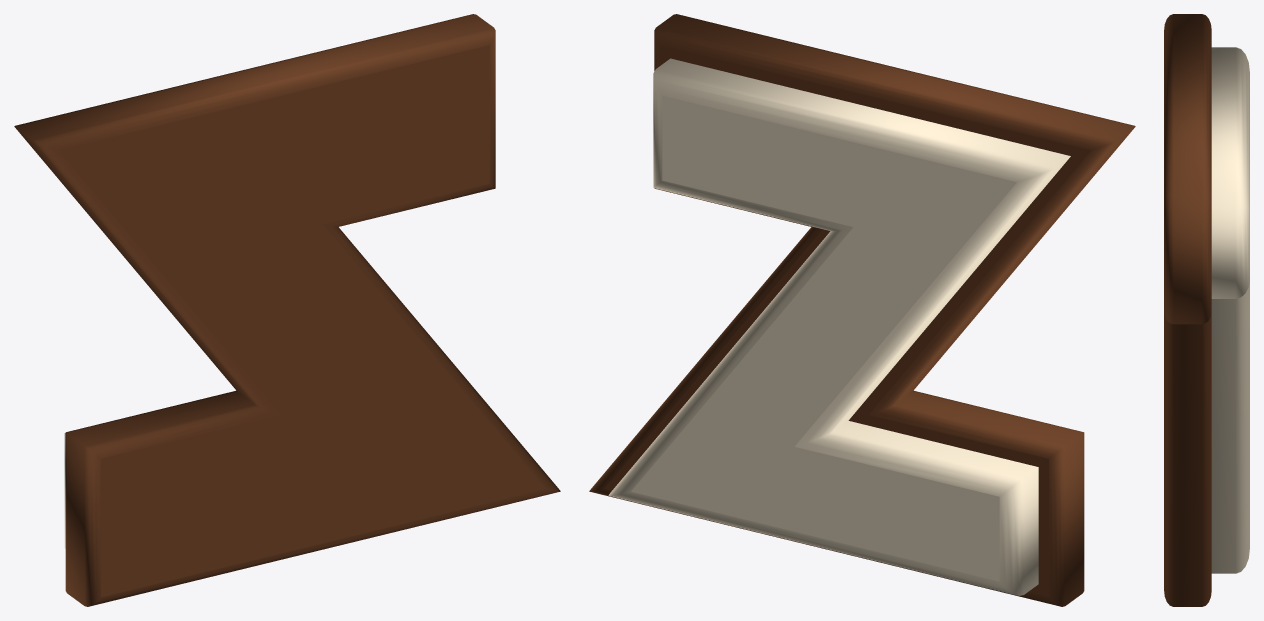
The model's file is Letter_Z.fbx.
The picture shows the model from 3 angles, left to right: view 1: azimuth 30°, elevation 25°; view 2: azimuth 150°, elevation 25°; view 3: azimuth 270°, elevation 25°; orthographic projection. The views are drawn at different scales.
Parts seen in each view (by area): view 1: Letter_Z; view 2: Letter_Z; view 3: Letter_Z.
Boxes of the visible parts, x1,y1,x2,y2 form: Letter_Z: (14,14,560,606); Letter_Z: (589,14,1135,606); Letter_Z: (1164,14,1249,606).
Bounding box in the file's own units: 1.03 × 0.892 × 0.18.
Materials: 1 (1 with a texture image).
